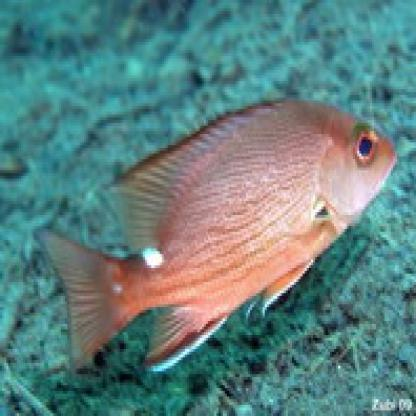snapper: (31, 88, 401, 375)
